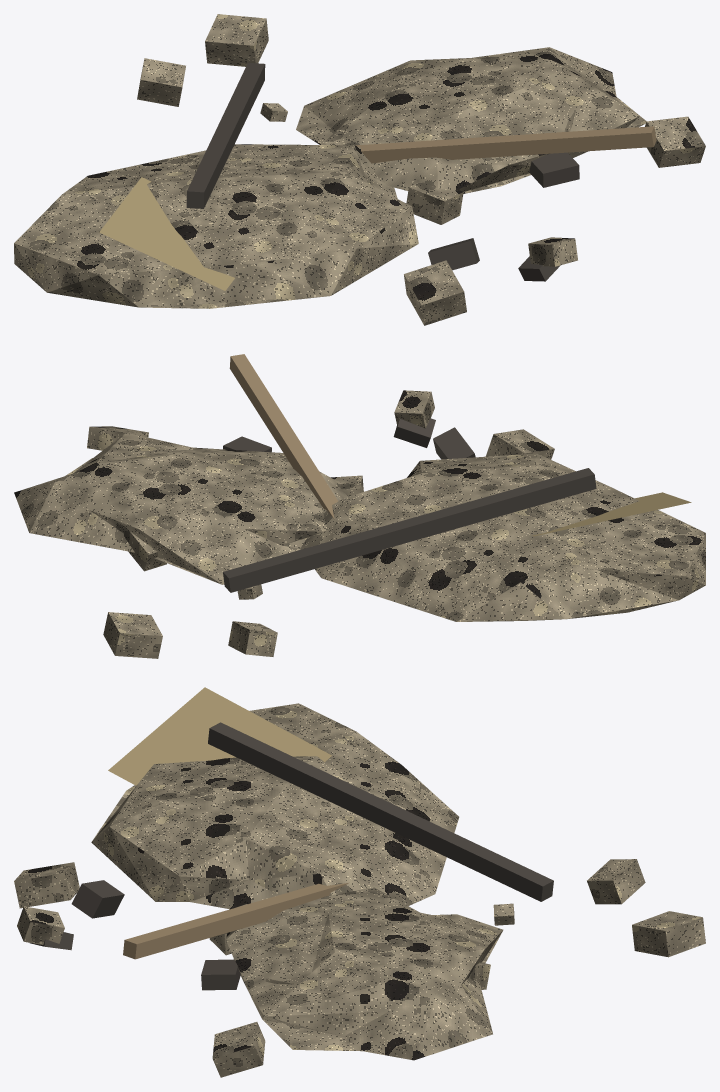
The model's file is rubble_field_wide.glb.
3 renders of one model, top to bottom at view 1: azimuth 30°, elevation 25°; view 2: azimuth 150°, elevation 25°; view 3: azimuth 270°, elevation 25°, orthographic. The views are drawn at different scales.
Visible parts, largest first — view 1: rubble_field_wide-col; view 2: rubble_field_wide-col; view 3: rubble_field_wide-col.
Boxes of the visible parts, bbox=[...] form: rubble_field_wide-col: bbox=[14, 14, 705, 325]; rubble_field_wide-col: bbox=[14, 354, 705, 658]; rubble_field_wide-col: bbox=[14, 687, 705, 1077].
Size of the model in its own units: 4.33 by 0.6397 by 3.87.
Materials: 4 (1 with a texture image).
